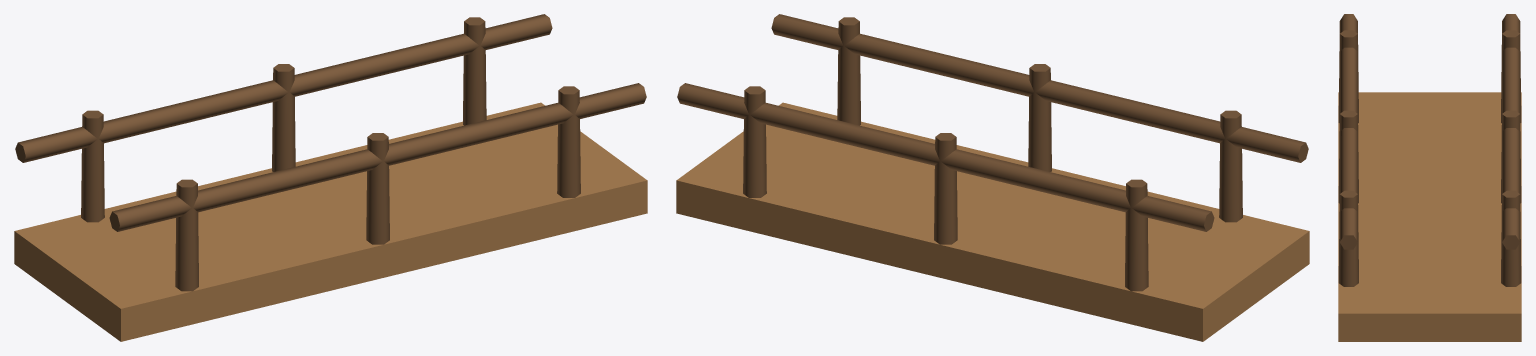
The model's file is bridge-segment.glb.
The picture shows the model from 3 angles, left to right: view 1: azimuth 30°, elevation 25°; view 2: azimuth 150°, elevation 25°; view 3: azimuth 270°, elevation 25°; orthographic projection. The views are drawn at different scales.
Visible parts, largest first — view 1: bridge-segment; view 2: bridge-segment; view 3: bridge-segment.
Boxes of the visible parts, bbox=[...] form: bridge-segment: bbox=[14, 14, 647, 341]; bridge-segment: bbox=[676, 14, 1309, 341]; bridge-segment: bbox=[1338, 14, 1521, 341].
Bounding box in the file's own units: 4 × 0.99 × 1.4.
